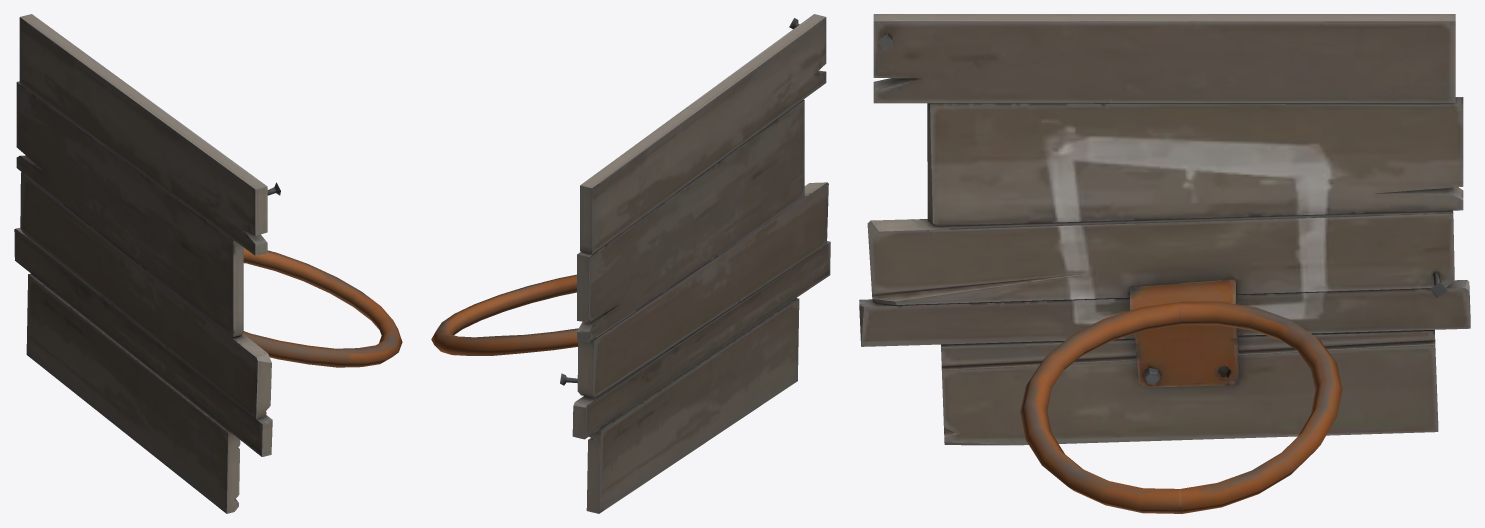
3 views of the same model, side by side, from view 1: azimuth 30°, elevation 25°; view 2: azimuth 150°, elevation 25°; view 3: azimuth 270°, elevation 25° (orthographic). The views are drawn at different scales.
Parts seen in each view (by area): view 1: body0_model0_lod0_mesh0; view 2: body0_model0_lod0_mesh0; view 3: body0_model0_lod0_mesh0.
Part boxes in pixels (x1,y1,x2,y2): body0_model0_lod0_mesh0: [14, 14, 402, 513]; body0_model0_lod0_mesh0: [431, 14, 830, 513]; body0_model0_lod0_mesh0: [859, 14, 1470, 513].
Size of the model in its own units: 65.65 by 85.09 by 111.
1 material, 1 textured.
